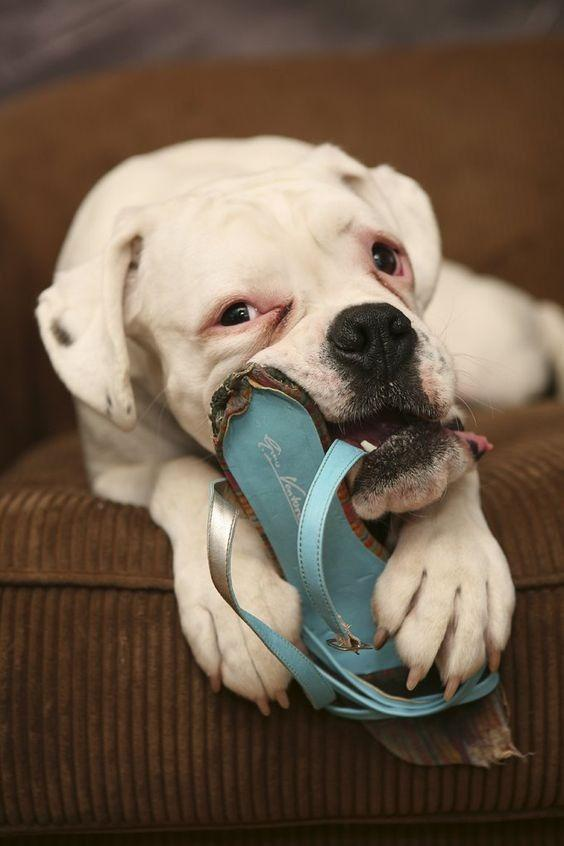puppy-dog: (42, 134, 564, 709)
